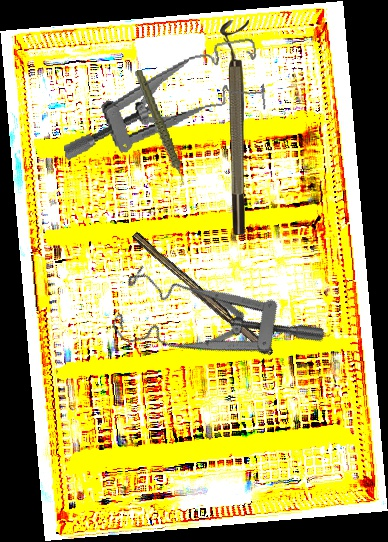Fixation Ring: (220, 20, 249, 235)
Handpiece: (133, 66, 186, 191)
Scalpel Handle: (127, 231, 277, 359)
Speculum: (100, 230, 328, 428), (50, 35, 272, 164)
